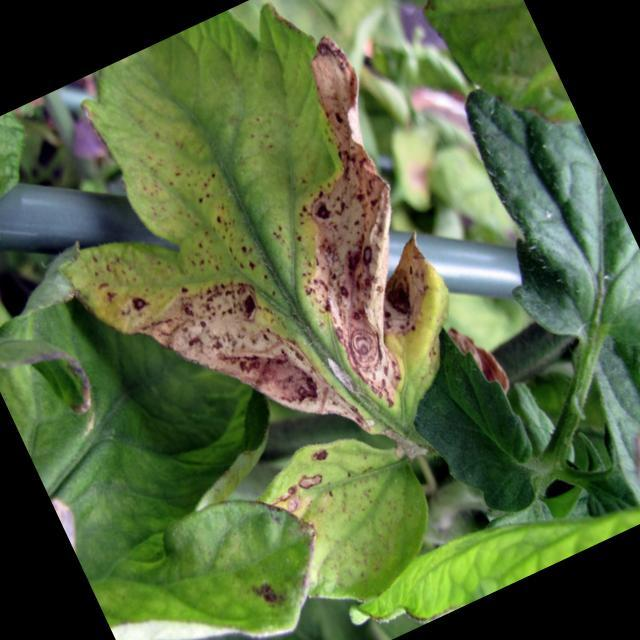Tomato Early blight leaf: (0, 0, 504, 533), (244, 406, 458, 628)
Tomato healthy leaf: (425, 53, 640, 394), (384, 315, 556, 536)
